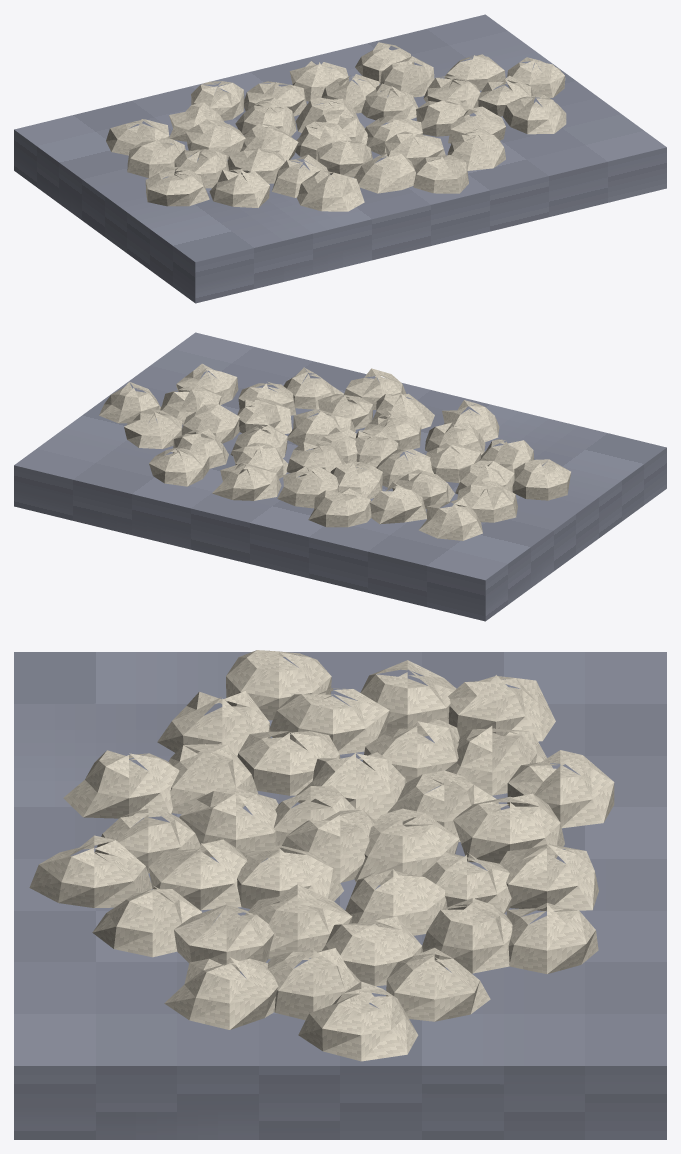
Rendered from cave-and-crystal-networks-popcorn-crust-5472bb89.glb.
The picture shows the model from 3 angles, top to bottom: view 1: azimuth 30°, elevation 25°; view 2: azimuth 150°, elevation 25°; view 3: azimuth 270°, elevation 25°; orthographic projection. The views are drawn at different scales.
Parts seen in each view (by area): view 1: popcorn-crust; view 2: popcorn-crust; view 3: popcorn-crust.
Part boxes in pixels (box(x1,y1,x2,y2)): popcorn-crust: box(14, 14, 666, 303); popcorn-crust: box(14, 332, 666, 621); popcorn-crust: box(14, 650, 666, 1139).
Bounding box in the file's own units: 1.2 × 0.1646 × 0.8.
2 materials, 2 textured.
